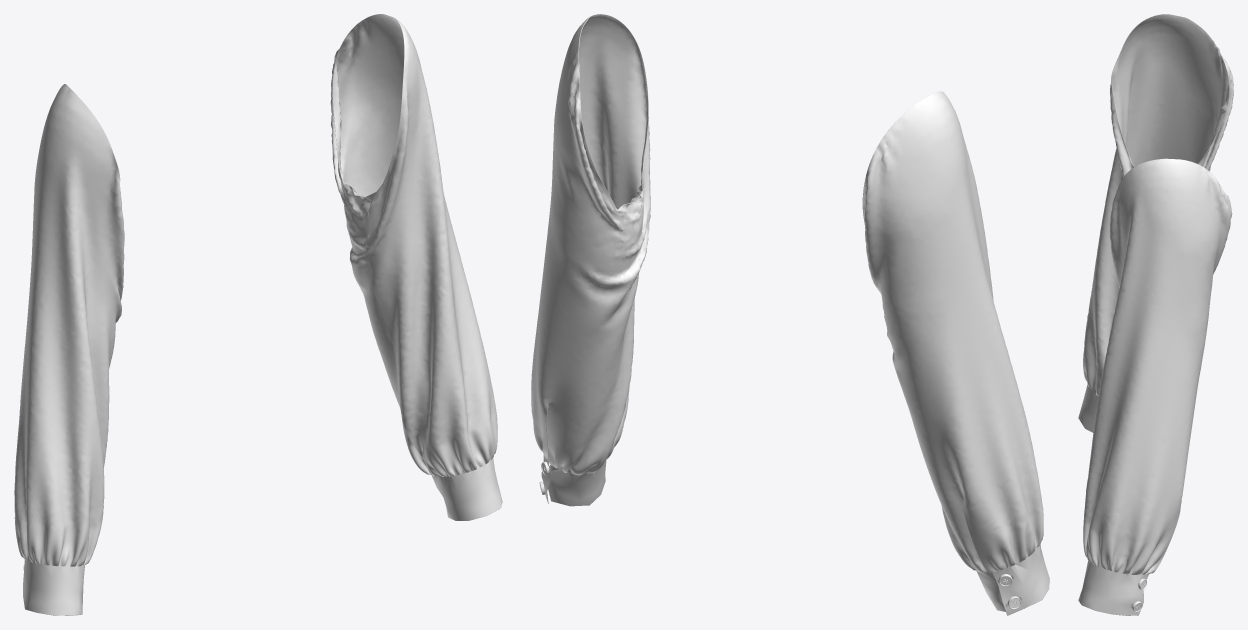
File: cuff_sleeve.glb
The picture shows the model from 3 angles, left to right: view 1: azimuth 30°, elevation 25°; view 2: azimuth 150°, elevation 25°; view 3: azimuth 270°, elevation 25°; orthographic projection. The views are drawn at different scales.
Visible parts, largest first — view 1: sleeve_1_Node, sleeve_Node, Contrast_Node, Contrast_1_Node; view 2: sleeve_Node, sleeve_1_Node, Contrast_Node, Contrast_1_Node; view 3: sleeve_1_Node, sleeve_Node, Contrast_1_Node, Contrast_Node.
Boxes of the visible parts, <box> form: sleeve_1_Node: <box>330,14,497,476</box>; sleeve_Node: <box>14,84,124,566</box>; Contrast_Node: <box>23,559,84,615</box>; Contrast_1_Node: <box>431,458,502,520</box>; sleeve_Node: <box>862,91,1043,572</box>; sleeve_1_Node: <box>531,14,650,475</box>; Contrast_Node: <box>976,544,1049,615</box>; Contrast_1_Node: <box>541,455,606,506</box>; sleeve_1_Node: <box>1083,158,1232,574</box>; sleeve_Node: <box>1083,14,1233,396</box>; Contrast_1_Node: <box>1078,560,1148,615</box>; Contrast_Node: <box>1078,384,1098,432</box>.
Bounding box in the file's own units: 54.6 × 54.67 × 17.5.
Materials: 24 (4 with a texture image).
